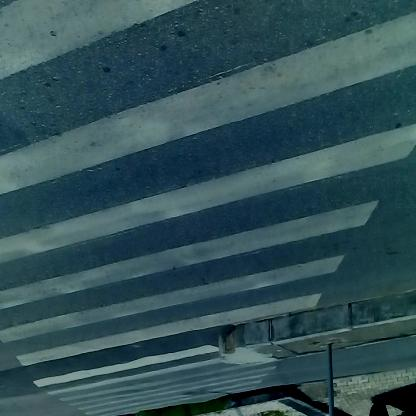crosswalk: (7, 2, 354, 314), (31, 343, 268, 395)
sidewalk: (228, 292, 416, 374)
